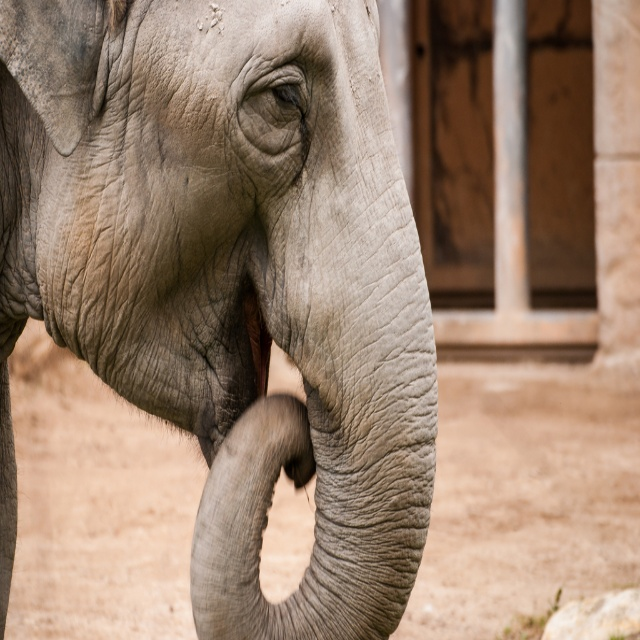Elephant: (0, 0, 438, 639)
